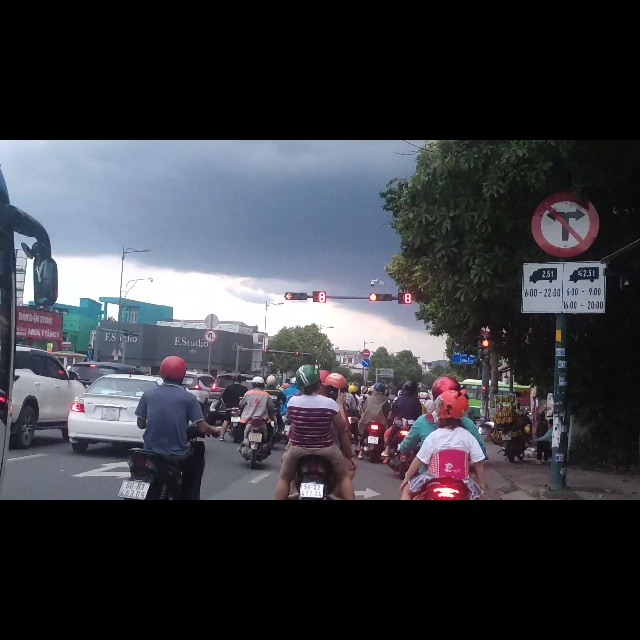bien_cam: (530, 90, 599, 210), (521, 217, 606, 309), (203, 336, 217, 361), (361, 371, 370, 388), (361, 387, 370, 404)
